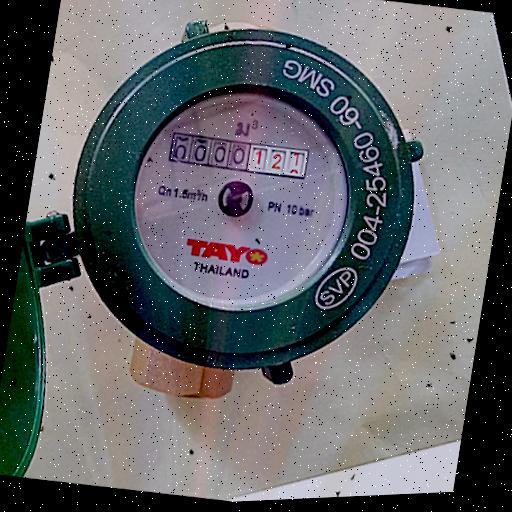0: (171, 135, 189, 161), (190, 137, 207, 163), (210, 139, 227, 165), (229, 143, 245, 168)
1: (249, 147, 266, 170), (286, 151, 302, 175)
2: (267, 149, 284, 172)
border_water_meter_number: (168, 125, 309, 186)
